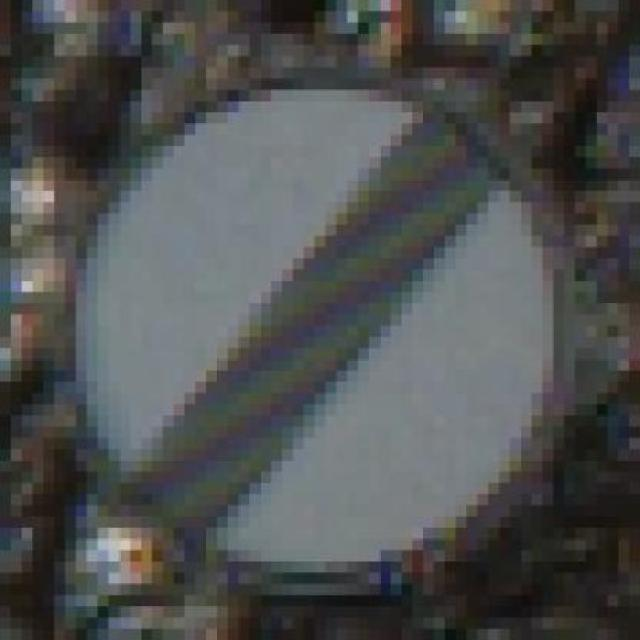End of all speed and passing limits: (65, 67, 586, 607)
